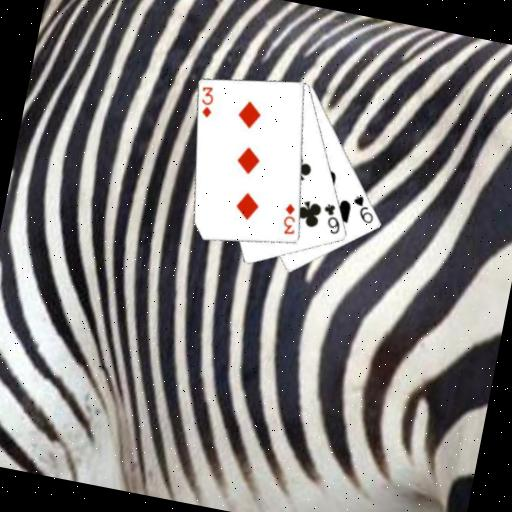3D: (278, 200, 302, 238), (194, 83, 218, 121)
6C: (317, 200, 346, 237)
9S: (347, 191, 379, 226)
